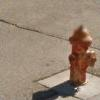Hydrant: (62, 17, 99, 90)
